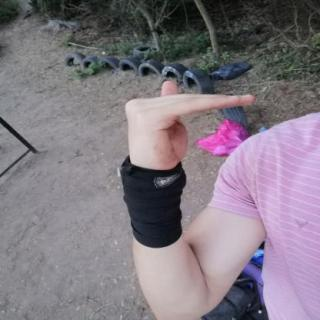KHAA: (110, 74, 268, 181)
